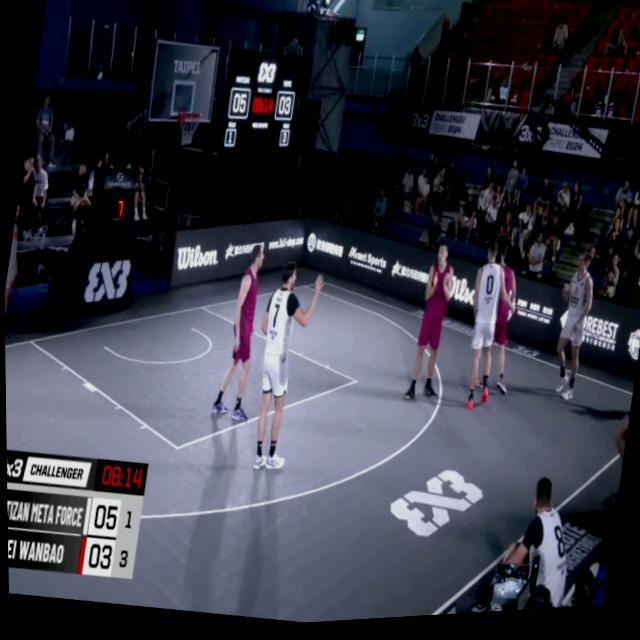hoop: (172, 108, 202, 154)
player: (237, 258, 330, 483), (204, 241, 279, 436), (454, 242, 519, 419), (470, 239, 530, 406), (402, 243, 460, 411), (543, 255, 599, 411)
